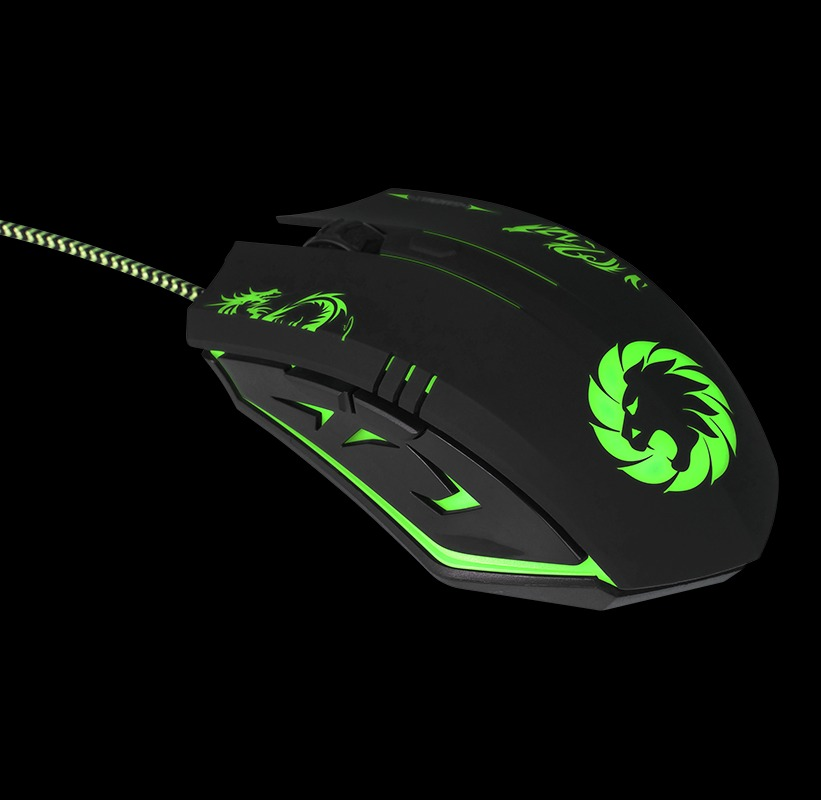mouse: (178, 112, 790, 622)
